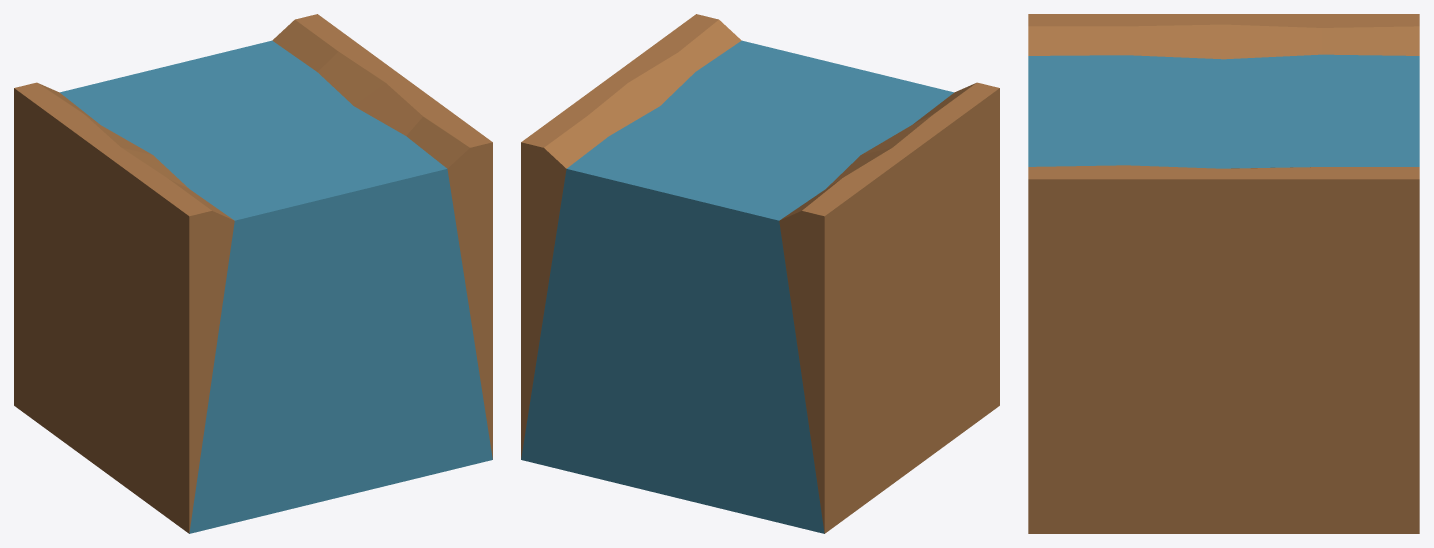
The model's file is doubleSided_river_tex_001.fbx.
3 renders of one model, left to right at view 1: azimuth 30°, elevation 25°; view 2: azimuth 150°, elevation 25°; view 3: azimuth 270°, elevation 25°, orthographic. The views are drawn at different scales.
Parts seen in each view (by area): view 1: doublesided_river; view 2: doublesided_river; view 3: doublesided_river.
Part boxes in pixels (bbox=[...]): doublesided_river: bbox=[14, 14, 492, 533]; doublesided_river: bbox=[521, 14, 999, 533]; doublesided_river: bbox=[1028, 14, 1419, 533].
Bounding box in the file's own units: 100 × 100 × 100.
